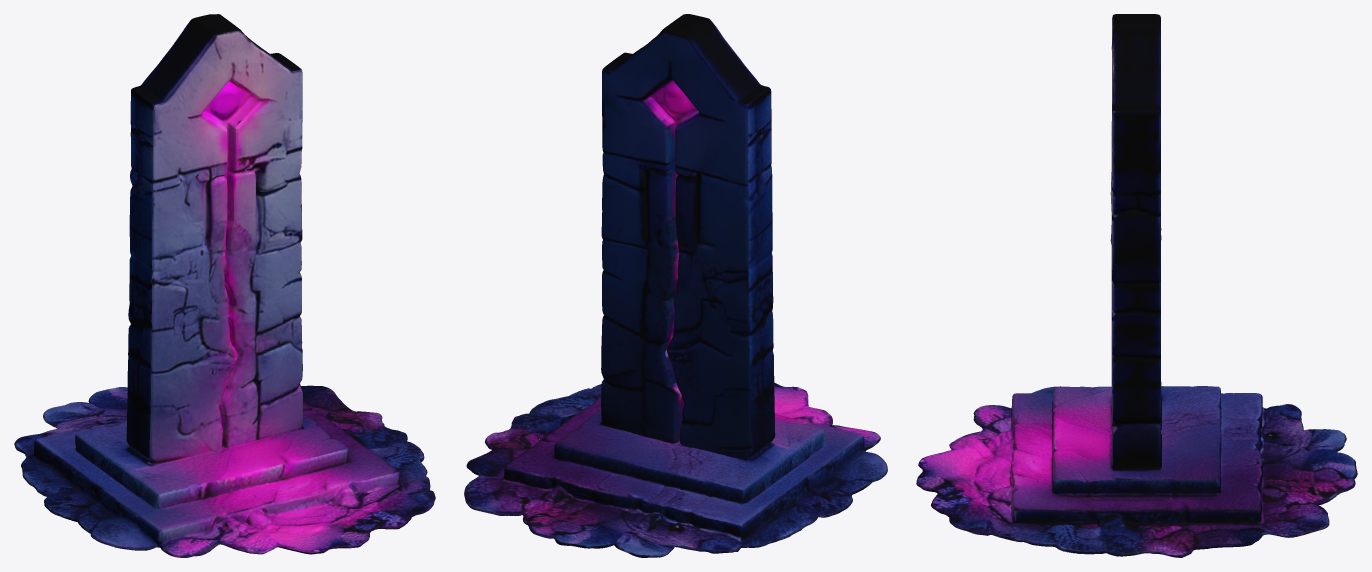
The model's file is weathered-monolith-pillar-generated-2026-05-17T19-16-10-569Z.high.glb.
The picture shows the model from 3 angles, left to right: view 1: azimuth 30°, elevation 25°; view 2: azimuth 150°, elevation 25°; view 3: azimuth 270°, elevation 25°; orthographic projection.
Parts seen in each view (by area): view 1: temp_mesh.ply; view 2: temp_mesh.ply; view 3: temp_mesh.ply.
Part boxes in pixels (box(x1,y1,x2,y2)): temp_mesh.ply: box(14, 14, 435, 557); temp_mesh.ply: box(464, 14, 887, 557); temp_mesh.ply: box(916, 14, 1357, 557).
Size of the model in its own units: 1.58 by 1.97 by 1.75.
1 material, 1 textured.
